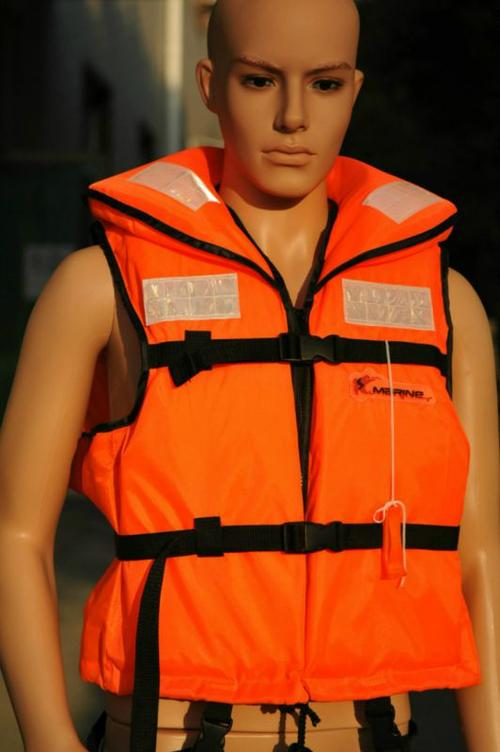reflective_clothes: (77, 111, 489, 704)
